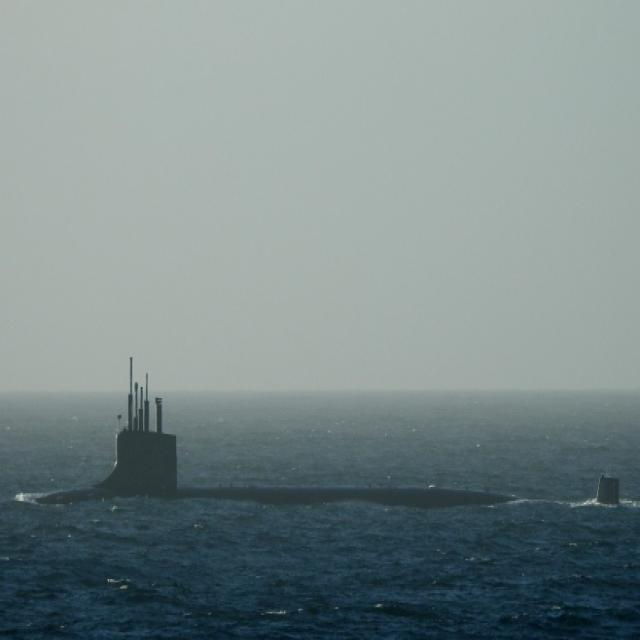submarine: (34, 353, 615, 512)
